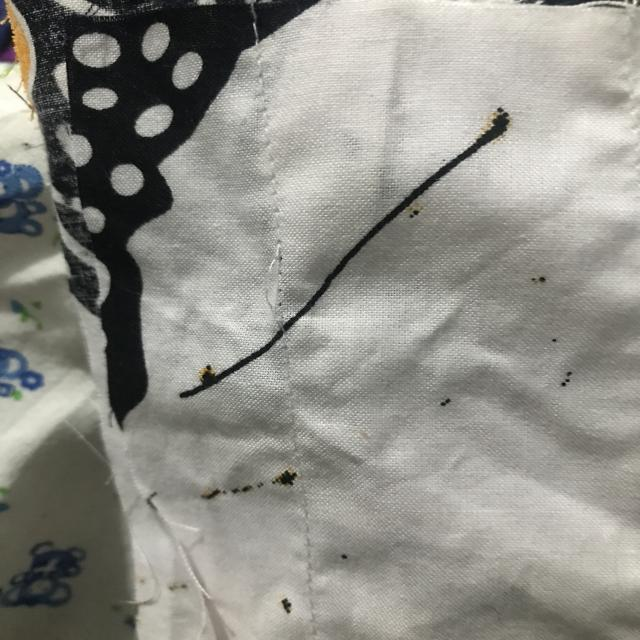skip: (231, 224, 309, 357)
